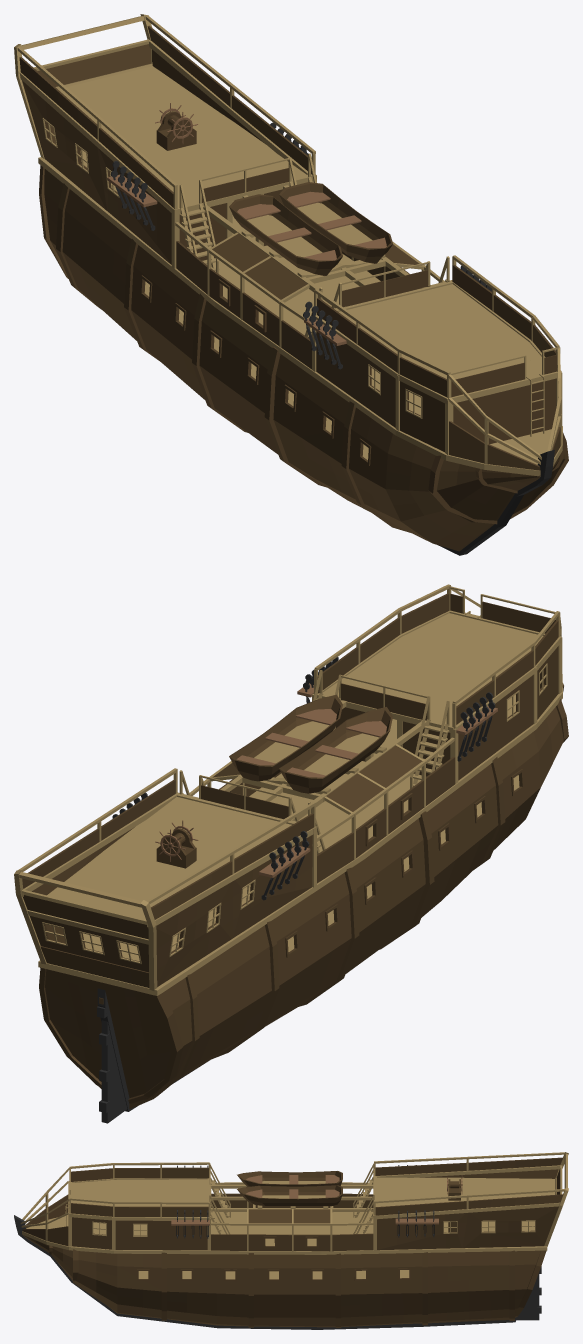
The model's file is Ship base destruction 3.fbx.
3 renders of one model, top to bottom at view 1: azimuth 30°, elevation 25°; view 2: azimuth 150°, elevation 25°; view 3: azimuth 270°, elevation 25°, orthographic. The views are drawn at different scales.
Parts seen in each view (by area): view 1: Ship_5_1_6, Ship_5_3_14, Ship_5_1_7, Ship_3_1_1, Ship_3_1_99, Ship_5_3_20, Ship_4_3_17, Ship_1_2_63, Ship_5_2_35; view 2: Ship_1_4_1, Ship_1_3_34, Ship_1_4_40, Ship_3_1_99, Ship_3_1_100, Ship_1_4_38; view 3: Ship_3_2_1, Ship_1_4_1, Ship_4_4_17, Ship_3_4_2, Ship_1_2_30, Ship_3_4_1, Ship_3_4_24, Ship_4_4_7, Ship_2_2_21, Ship_5_2_7, Ship_5_4_5, Ship_3_2_101 (+94 smaller).
Boxes of the visible parts, left/top/right/bottom form: Ship_5_1_6: left=449, top=421, right=484, bottom=463; Ship_5_3_14: left=437, top=485, right=485, bottom=521; Ship_5_1_7: left=487, top=444, right=540, bottom=470; Ship_3_1_1: left=276, top=354, right=307, bottom=394; Ship_3_1_99: left=244, top=257, right=289, bottom=286; Ship_5_3_20: left=401, top=516, right=451, bottom=543; Ship_4_3_17: left=303, top=373, right=333, bottom=412; Ship_1_2_63: left=87, top=51, right=121, bottom=78; Ship_5_2_35: left=504, top=408, right=530, bottom=440; Ship_1_4_1: left=101, top=1065, right=127, bottom=1123; Ship_1_3_34: left=45, top=986, right=81, bottom=1038; Ship_1_4_40: left=141, top=1016, right=171, bottom=1054; Ship_3_1_99: left=359, top=759, right=403, bottom=787; Ship_3_1_100: left=377, top=745, right=421, bottom=774; Ship_1_4_38: left=114, top=1028, right=139, bottom=1065; Ship_3_2_1: left=217, top=1254, right=248, bottom=1268; Ship_1_4_1: left=516, top=1290, right=539, bottom=1320; Ship_4_4_17: left=187, top=1254, right=216, bottom=1267; Ship_3_4_2: left=217, top=1282, right=248, bottom=1294; Ship_1_2_30: left=530, top=1206, right=558, bottom=1221; Ship_3_4_1: left=217, top=1293, right=248, bottom=1305; Ship_3_4_24: left=217, top=1304, right=248, bottom=1317; Ship_4_4_7: left=187, top=1268, right=216, bottom=1282; Ship_2_2_21: left=352, top=1233, right=373, bottom=1250; Ship_5_2_7: left=47, top=1226, right=68, bottom=1245; Ship_5_4_5: left=117, top=1266, right=142, bottom=1282; Ship_3_2_101: left=332, top=1234, right=352, bottom=1251.
Size of the model in its own units: 6.45 by 9.68 by 30.63.
